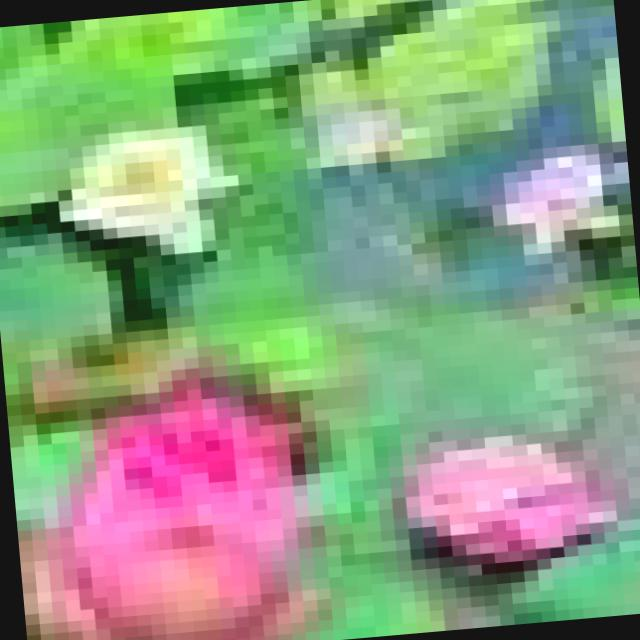lotus: (32, 359, 339, 640)
